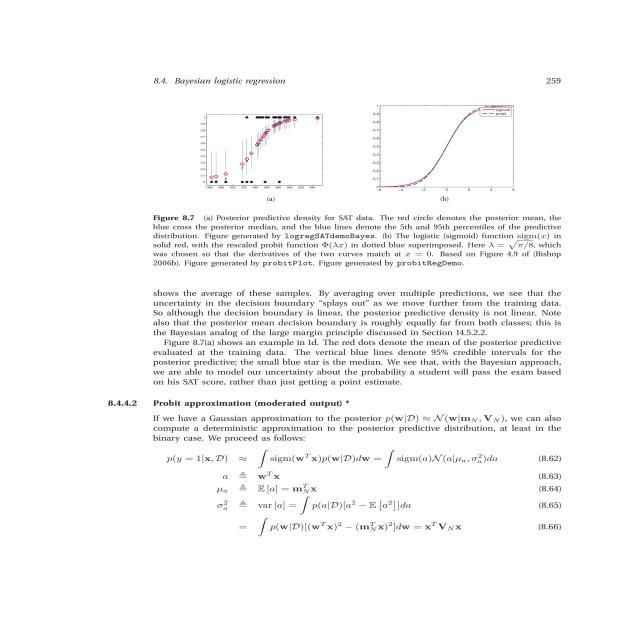diagram: (115, 95, 624, 276)
